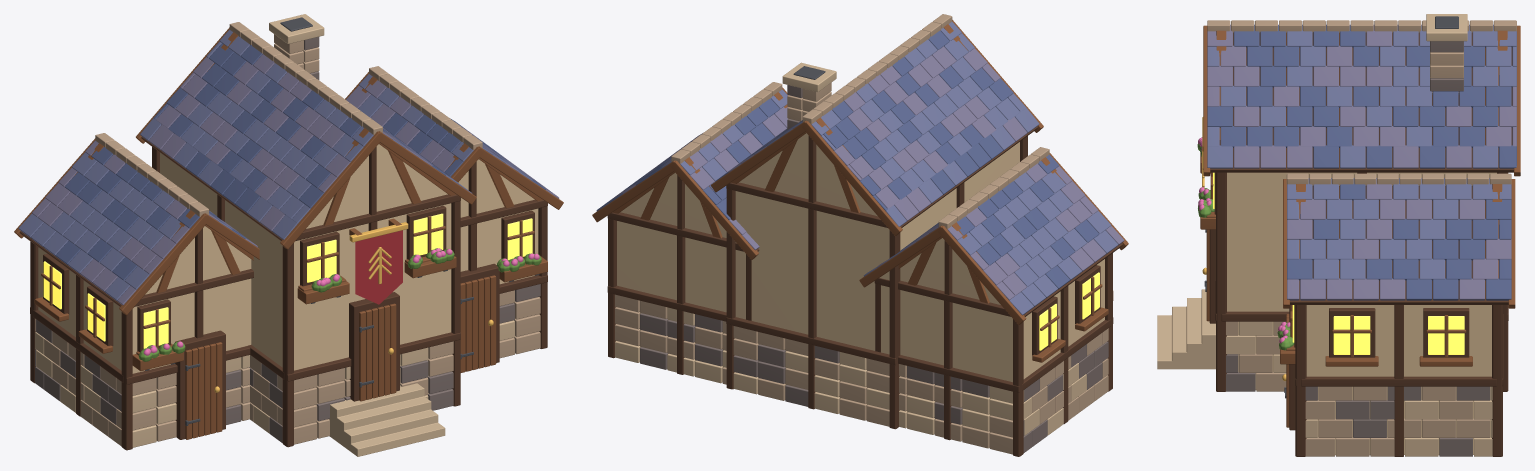
The model's file is ashwick-town-hall.meshopt.glb.
3 renders of one model, left to right at view 1: azimuth 30°, elevation 25°; view 2: azimuth 150°, elevation 25°; view 3: azimuth 270°, elevation 25°, orthographic. The views are drawn at different scales.
Parts seen in each view (by area): view 1: Limewashed walls.001, Overlapping slate courses.005, Overlapping slate courses.004, Overlapping slate courses.003, Door planks.001, Foundation ashlar.004, Gable infill.001, Carved verge.001, Tie beams.001, Frame posts.001, Entry flight.001, Ridge caps.001 (+21 smaller); view 2: Limewashed walls.001, Overlapping slate courses.005, Overlapping slate courses.004, Overlapping slate courses.003, Foundation ashlar.004, Frame posts.001, Tie beams.001, Gable infill.001, Foundation ashlar.003, Carved verge.001, Foundation ashlar.005, Ridge caps.001 (+14 smaller); view 3: Overlapping slate courses.003, Overlapping slate courses.005, Overlapping slate courses.004, Limewashed walls.001, Side foundation.003, Side posts.001, Ridge caps.001, Roof decking.001, Side foundation.005, Entry flight.001, Side foundation.004, Side rails.001 (+13 smaller).
Boxes of the visible parts, x1,y1,x2,y2 form: Limewashed walls.001: [38, 153, 538, 425]; Overlapping slate courses.005: [18, 29, 532, 301]; Overlapping slate courses.004: [32, 54, 559, 305]; Overlapping slate courses.003: [55, 43, 545, 280]; Door planks.001: [185, 275, 496, 439]; Foundation ashlar.004: [132, 290, 540, 444]; Gable infill.001: [145, 144, 534, 294]; Carved verge.001: [14, 27, 563, 315]; Tie beams.001: [30, 194, 547, 384]; Frame posts.001: [35, 150, 547, 450]; Entry flight.001: [329, 383, 445, 456]; Ridge caps.001: [95, 22, 482, 216]; Limewashed walls.001: [617, 142, 1104, 432]; Overlapping slate courses.005: [641, 21, 1118, 315]; Overlapping slate courses.004: [610, 46, 1124, 300]; Overlapping slate courses.003: [596, 30, 1099, 289]; Foundation ashlar.004: [615, 294, 1012, 454]; Frame posts.001: [608, 139, 1108, 456]; Tie beams.001: [607, 182, 1113, 392]; Gable infill.001: [620, 133, 1000, 304]; Foundation ashlar.003: [615, 307, 1012, 434]; Carved verge.001: [592, 20, 1128, 324]; Foundation ashlar.005: [640, 313, 989, 424]; Ridge caps.001: [671, 14, 1049, 229]; Overlapping slate courses.003: [1207, 24, 1516, 300]; Overlapping slate courses.005: [1207, 24, 1516, 280]; Overlapping slate courses.004: [1207, 24, 1516, 300]; Limewashed walls.001: [1227, 172, 1496, 454]; Side foundation.003: [1226, 321, 1490, 456]; Side posts.001: [1216, 172, 1507, 456]; Ridge caps.001: [1207, 20, 1516, 186]; Roof decking.001: [1210, 33, 1513, 304]; Side foundation.005: [1226, 354, 1490, 456]; Entry flight.001: [1157, 289, 1215, 369]; Side foundation.004: [1226, 321, 1492, 456]; Side rails.001: [1221, 311, 1496, 386].
Bounding box in the file's own units: 10.34 × 7.08 × 6.85.
